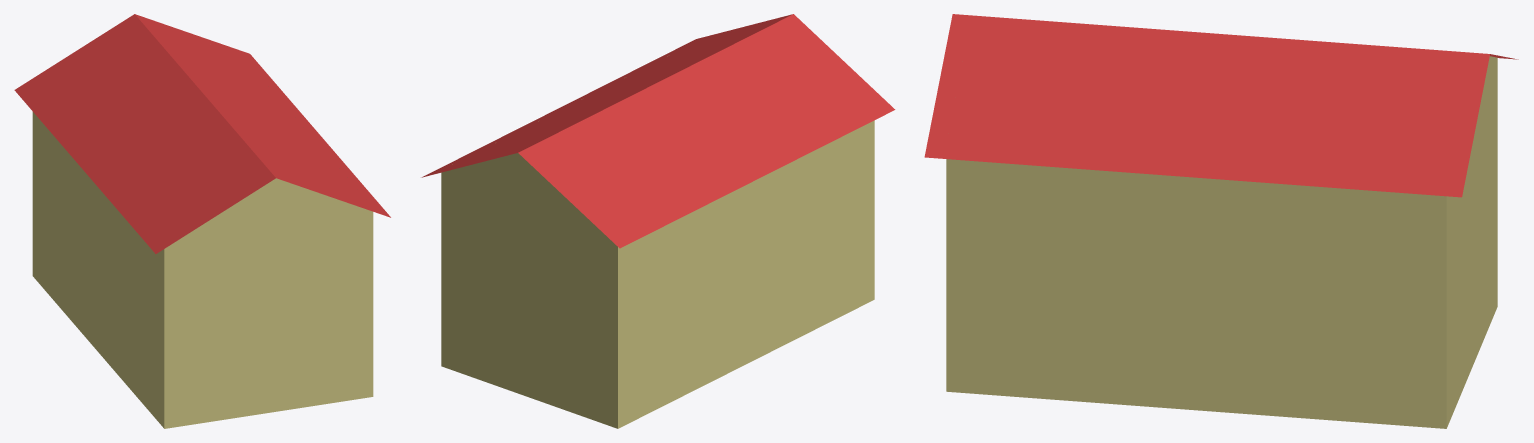
3 renders of one model, left to right at view 1: azimuth 30°, elevation 25°; view 2: azimuth 150°, elevation 25°; view 3: azimuth 270°, elevation 25°, orthographic. The views are drawn at different scales.
Size of the model in its own units: 11.1 by 15.7 by 9.22.
